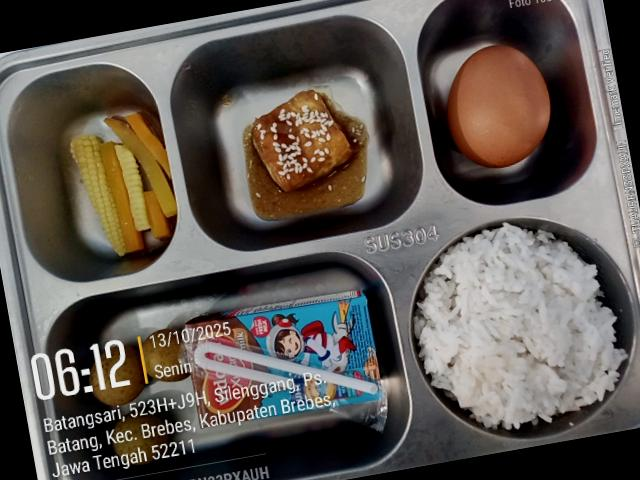buah: (90, 328, 190, 406)
nasi: (415, 224, 626, 429)
sayur: (69, 113, 176, 256), (325, 148, 329, 153)
susu: (185, 346, 385, 427)
tahu: (252, 91, 351, 192)
telur: (447, 45, 550, 168)
